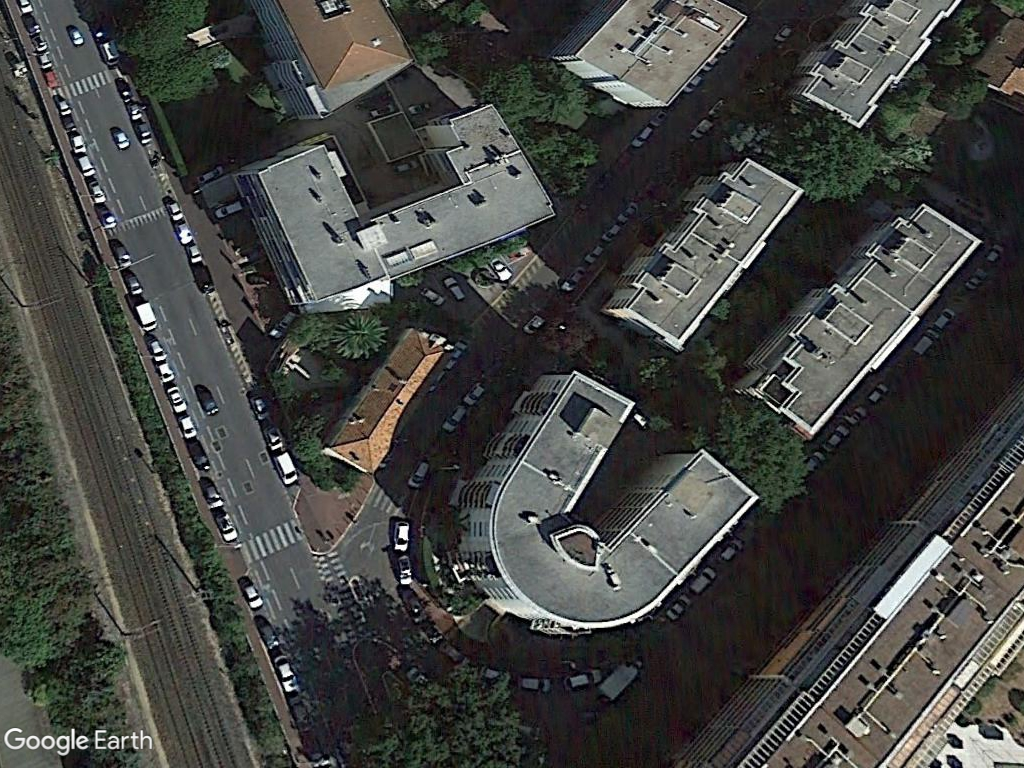truck: (264, 446, 302, 491), (129, 297, 163, 333), (388, 513, 412, 559)
